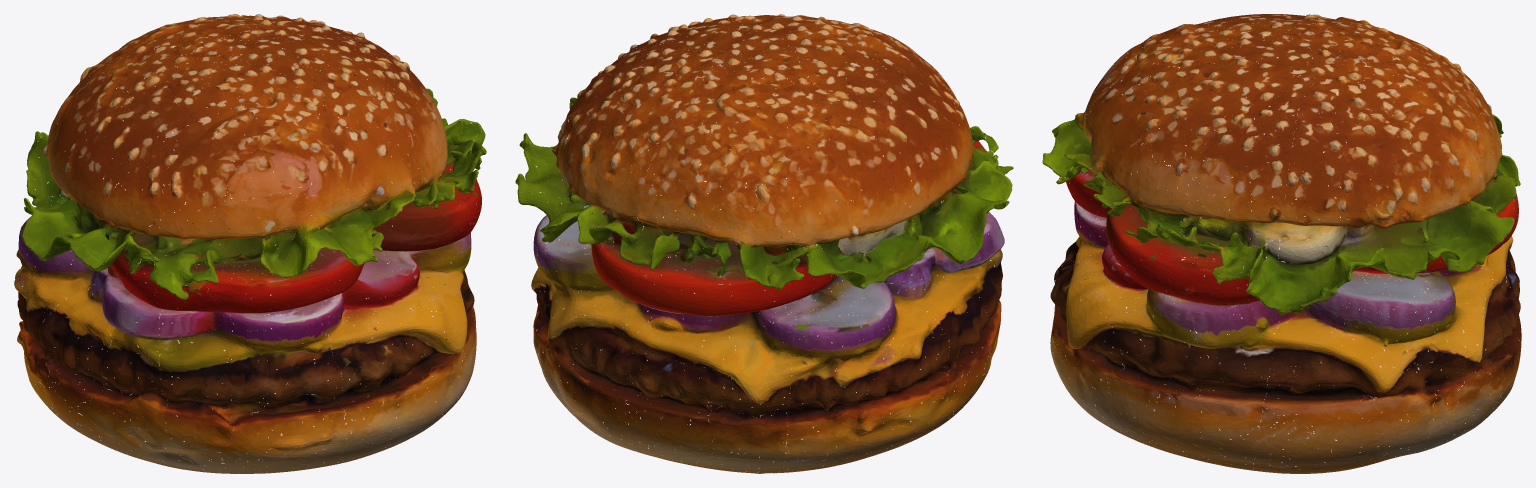
The model's file is burger.glb.
3 renders of one model, left to right at view 1: azimuth 30°, elevation 25°; view 2: azimuth 150°, elevation 25°; view 3: azimuth 270°, elevation 25°, orthographic. The views are drawn at different scales.
Visible parts, largest first — view 1: world; view 2: world; view 3: world.
Part boxes in pixels (bbox=[...]): world: bbox=[14, 14, 486, 473]; world: bbox=[515, 14, 1013, 473]; world: bbox=[1042, 14, 1521, 473].
Size of the model in its own units: 0.1301 by 0.1099 by 0.1222.
1 material, 1 textured.
